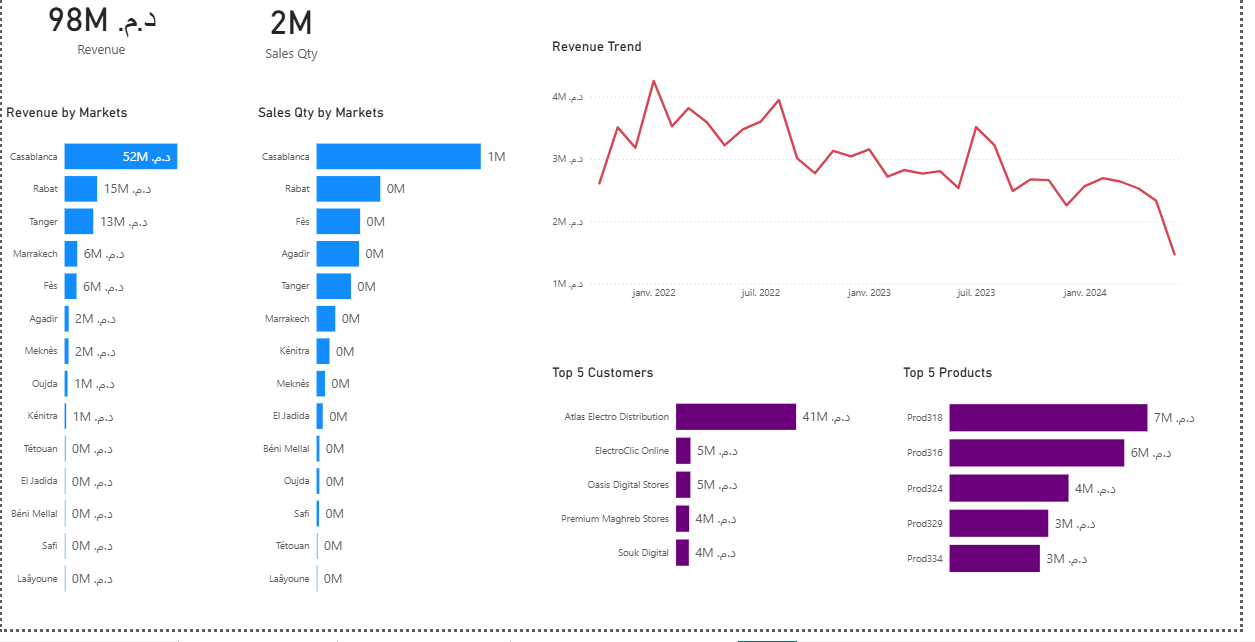

The dashboard page shown, as its layout file describes it:
{"tool":"powerbi","page":{"name":"Key Insights","canvas":[1550,850],"ordinal":0},"visuals":[{"type":"card","fields":{"Values":["BaseMeasures (2).Revenue"]},"box":[0,0,247.9,184.6],"z":0},{"type":"card","fields":{"Values":["BaseMeasures (2).Sales Qty"]},"box":[247.9,0,227.9,193.1],"z":1000},{"type":"barChart","title":"Revenue by Markets","fields":{"Category":["sales markets.markets_name"],"Y":["BaseMeasures (2).Revenue"]},"box":[0,193.8,292.4,630.7],"z":2000},{"type":"barChart","title":"Sales Qty by Markets","fields":{"Category":["sales markets.markets_name"],"Y":["BaseMeasures (2).Sales Qty"]},"box":[316.2,193.8,319.6,630.7],"z":3000},{"type":"slicer","fields":{"Values":["sales date.cy_date"]},"box":[980.9,0,545.7,66.3],"z":4000},{"type":"barChart","title":"Top 5 Customers","fields":{"Category":["sales customers.custmer_name"],"Y":["BaseMeasures (2).Revenue"]},"box":[683.4,518.5,384.2,275.4],"z":5000},{"type":"barChart","title":"Top 5 Products","fields":{"Category":["sales products.product_code"],"Y":["BaseMeasures (2).Revenue"]},"box":[1123.7,518.5,375.7,283.9],"z":6000},{"type":"lineChart","title":"Revenue Trend","fields":{"Category":["sales date.cy_date"],"Y":["BaseMeasures (2).Revenue"]},"box":[683.4,110.5,816,336.6],"z":7000},{"type":"slicer","fields":{"Values":["sales date.year"]},"box":[683.4,0,297.5,66.3],"z":8000}]}

Visuals, with their boxes on the page's 1550x850 design canvas (x1, y1, x2, y2). These are canvas units, not pixel positions in the 1255x642 screenshot, which may show the page scaled, cropped or inside an application window:
card - BaseMeasures (2).Revenue: [0,0,248,185]
card - BaseMeasures (2).Sales Qty: [248,0,476,193]
"Revenue by Markets" barChart: [0,194,292,824]
"Sales Qty by Markets" barChart: [316,194,636,824]
slicer - sales date.cy_date: [981,0,1527,66]
"Top 5 Customers" barChart: [683,518,1068,794]
"Top 5 Products" barChart: [1124,518,1499,802]
"Revenue Trend" lineChart: [683,110,1499,447]
slicer - sales date.year: [683,0,981,66]
